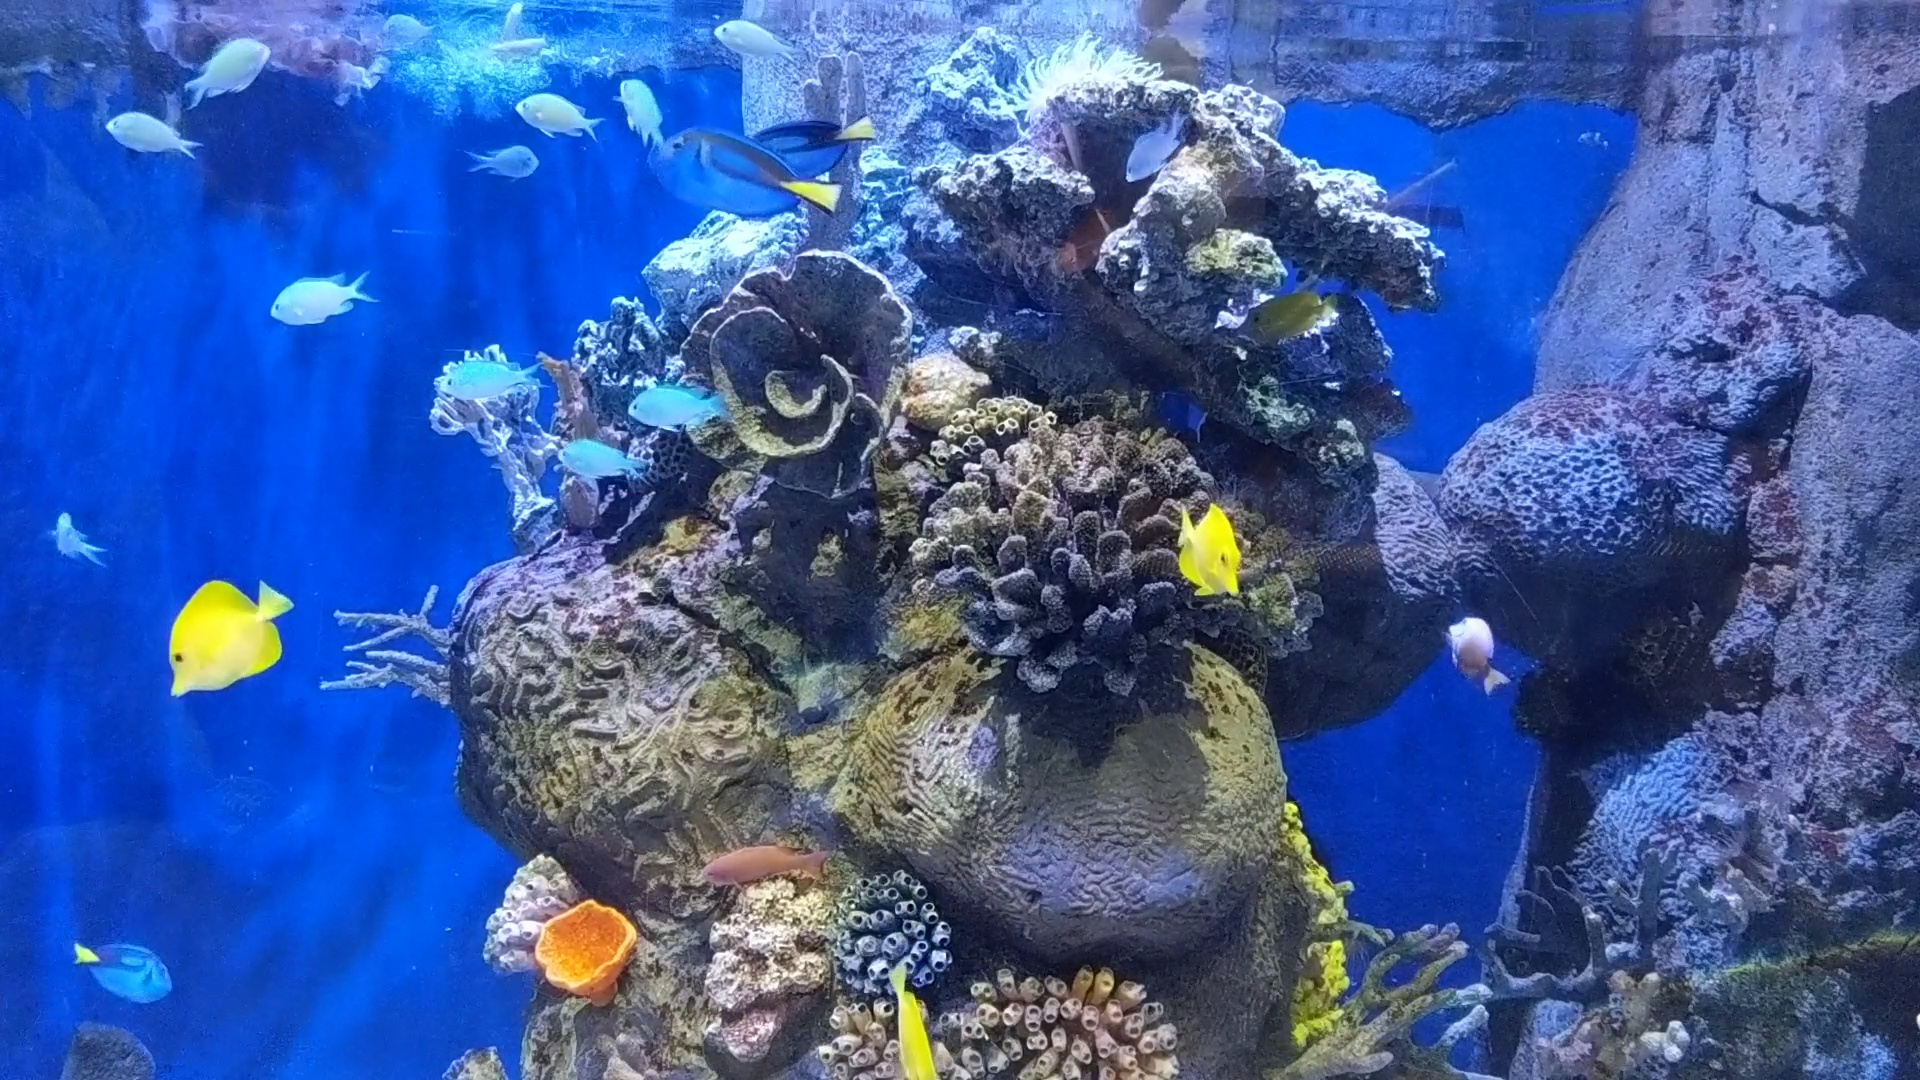blue tang surgeonfish: (642, 127, 833, 223), (67, 934, 185, 1009)
damselfish: (174, 25, 286, 99), (102, 98, 212, 165), (258, 261, 367, 328), (429, 344, 535, 411), (622, 376, 731, 436), (554, 425, 647, 491), (516, 80, 597, 145), (608, 63, 670, 142), (450, 133, 550, 181), (45, 502, 115, 568), (709, 17, 793, 73)
pink fish: (1437, 618, 1510, 694)
saddle butterfly fish: (152, 562, 309, 708), (1215, 270, 1344, 353), (1174, 498, 1255, 607)
